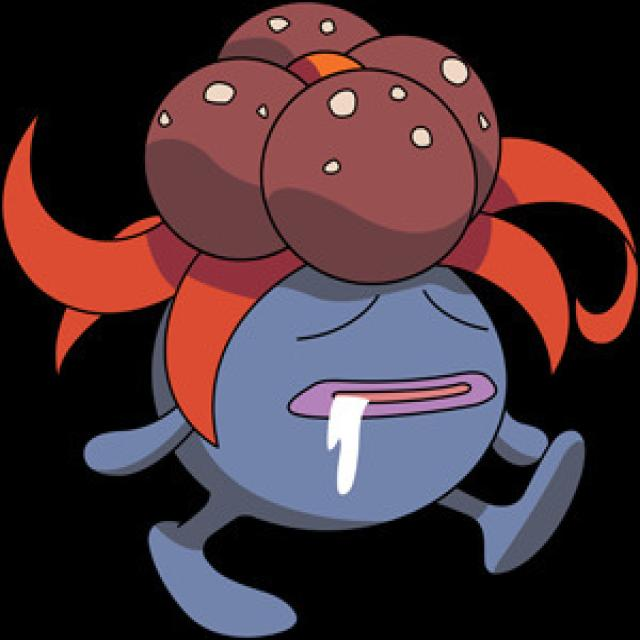Gloom: (130, 6, 539, 562)
